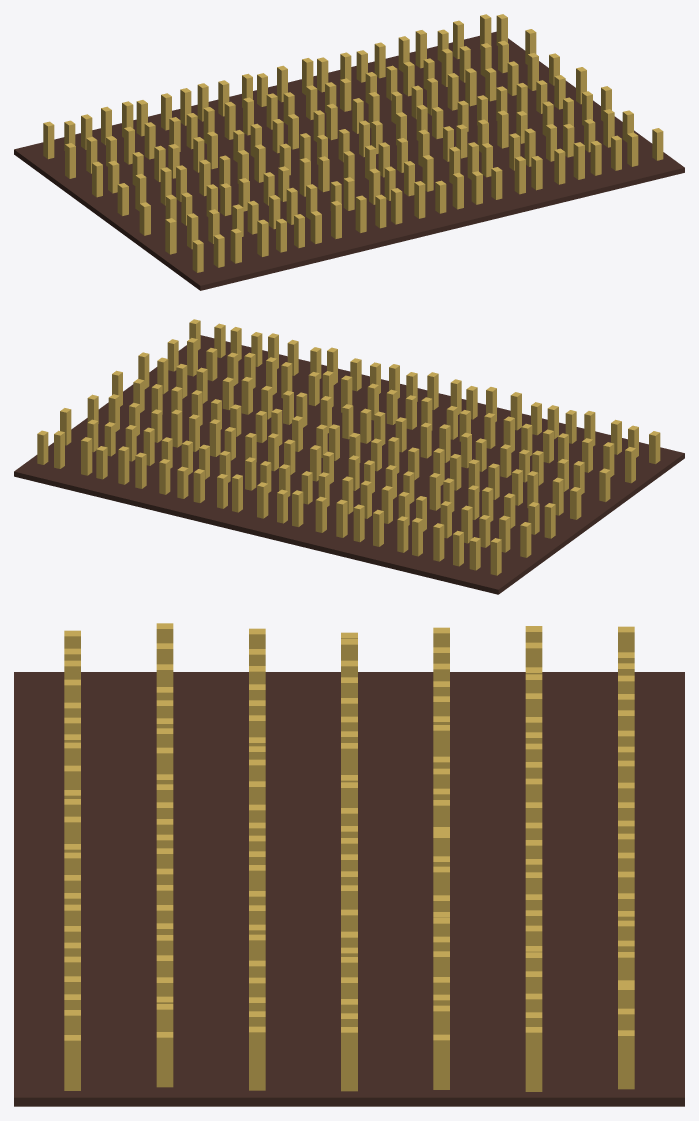
File: field.glb
The picture shows the model from 3 angles, top to bottom: view 1: azimuth 30°, elevation 25°; view 2: azimuth 150°, elevation 25°; view 3: azimuth 270°, elevation 25°; orthographic projection. The views are drawn at different scales.
Parts seen in each view (by area): view 1: soil, crop2_18, crop0_16, crop0_11, crop0_19, crop4_19, crop6_0, crop0_3, crop0_8; view 2: soil, crop6_21, crop6_19, crop6_3, crop6_8, crop2_18, crop4_6, crop6_7, crop6_0, crop4_19; view 3: soil, crop5_23, crop2_23, crop3_23, crop6_23, crop1_23, crop0_23, crop4_23.
Part boxes in pixels (x1=…): soil: x1=14, y1=31, x2=684, y2=290; crop2_18: x1=497, y1=110, x2=508, y2=148; crop0_16: x1=514, y1=156, x2=525, y2=194; crop0_11: x1=414, y1=181, x2=425, y2=218; crop0_19: x1=573, y1=142, x2=584, y2=179; crop4_19: x1=465, y1=68, x2=476, y2=106; crop6_0: x1=43, y1=121, x2=54, y2=159; crop0_3: x1=257, y1=219, x2=268, y2=256; crop0_8: x1=355, y1=195, x2=366, y2=232; soil: x1=14, y1=335, x2=684, y2=594; crop6_21: x1=81, y1=437, x2=92, y2=475; crop6_19: x1=118, y1=446, x2=129, y2=484; crop6_3: x1=433, y1=523, x2=444, y2=561; crop6_8: x1=336, y1=499, x2=347, y2=537; crop2_18: x1=241, y1=377, x2=252, y2=414; crop4_6: x1=429, y1=473, x2=440, y2=510; crop6_7: x1=353, y1=504, x2=364, y2=542; crop6_0: x1=490, y1=538, x2=501, y2=575; crop4_19: x1=171, y1=409, x2=182, y2=447; soil: x1=14, y1=672, x2=684, y2=1106; crop5_23: x1=525, y1=1027, x2=542, y2=1091; crop2_23: x1=249, y1=1026, x2=265, y2=1090; crop3_23: x1=341, y1=1027, x2=357, y2=1091; crop6_23: x1=618, y1=1030, x2=634, y2=1089; crop1_23: x1=156, y1=1032, x2=173, y2=1087; crop0_23: x1=64, y1=1035, x2=80, y2=1090; crop4_23: x1=433, y1=1034, x2=449, y2=1089.
Bounding box in the file's own units: 12 × 0.9493 × 8.
